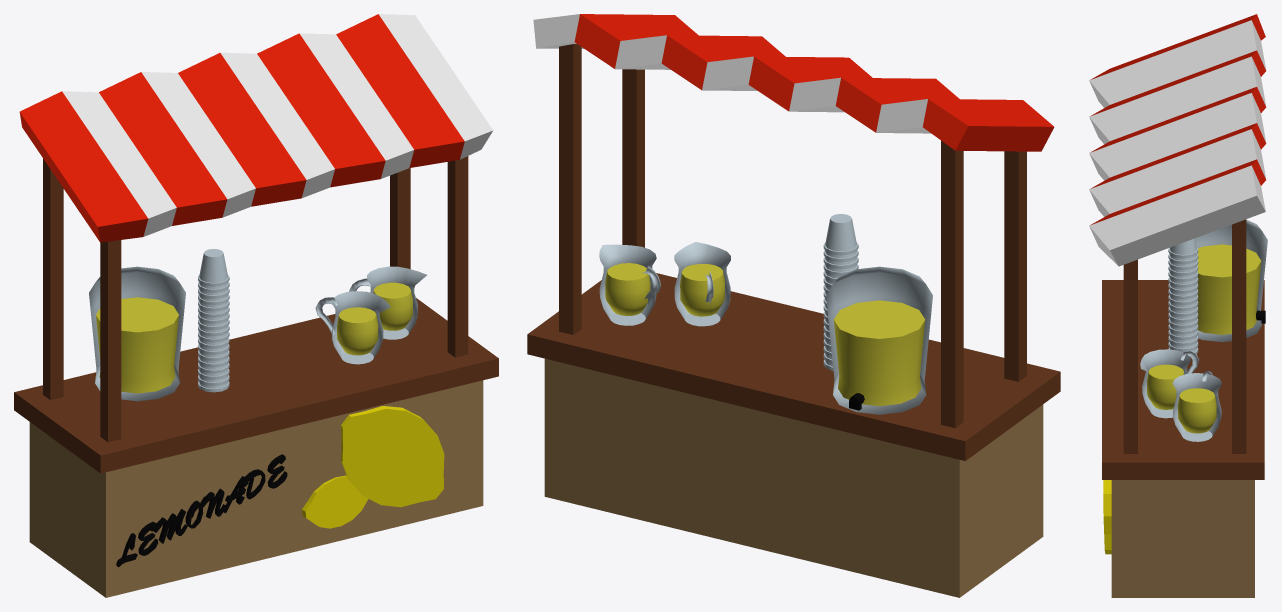
File: lemonadeStand.glb
The picture shows the model from 3 angles, left to right: view 1: azimuth 30°, elevation 25°; view 2: azimuth 150°, elevation 25°; view 3: azimuth 270°, elevation 25°; orthographic projection. The views are drawn at different scales.
Visible parts, largest first — view 1: LemonadeStand; view 2: LemonadeStand; view 3: LemonadeStand.
Boxes of the visible parts, box(x1,y1,x2,y2) form: LemonadeStand: box(14, 14, 498, 597); LemonadeStand: box(527, 14, 1060, 597); LemonadeStand: box(1089, 14, 1267, 597).
Size of the model in its own units: 7 by 7.47 by 2.89.
